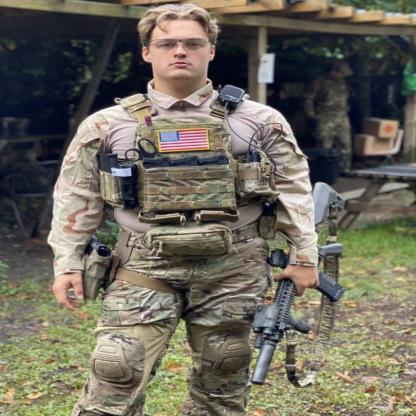rifle: (247, 179, 348, 387), (80, 233, 112, 303)
